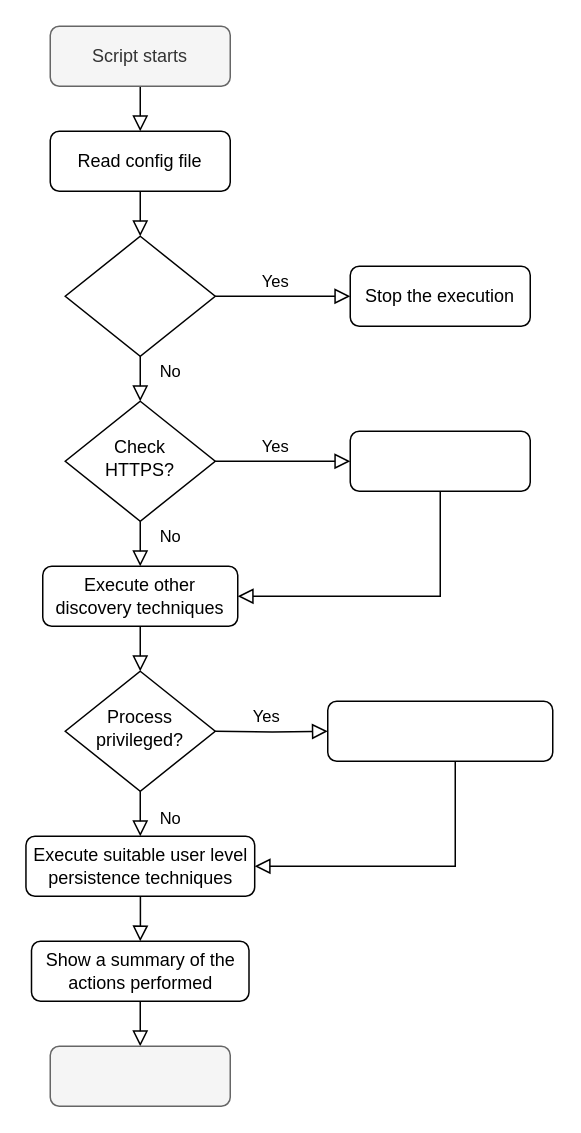
This 581x1133 diagram has some shape labels left out. Each missing label, with the centre of its shape:
"Execute suitable privileged persistence techniques" goes at point (439, 730).
"Look for proxy configurations" goes at point (439, 460).
"Problems with config?" goes at point (139, 295).
"Script ends" goes at point (139, 1075).
